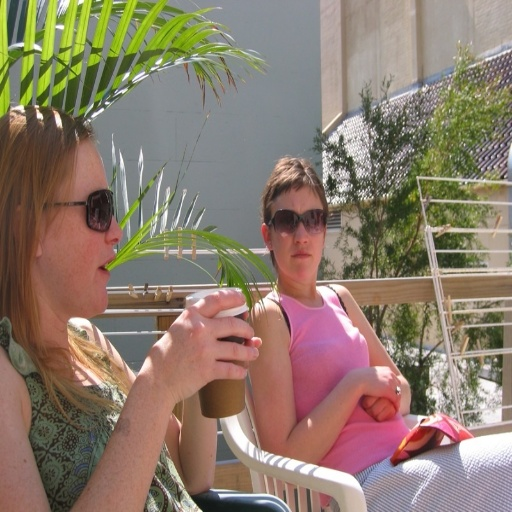hand: (141, 305, 264, 418), (364, 366, 401, 415), (360, 395, 396, 423), (241, 310, 261, 350)
